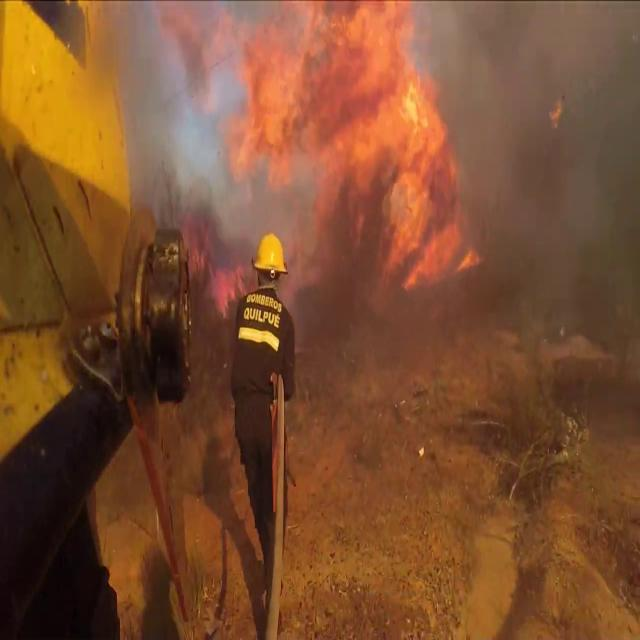Fire: (212, 1, 476, 278)
Smoke: (442, 2, 640, 402), (92, 1, 250, 308)
